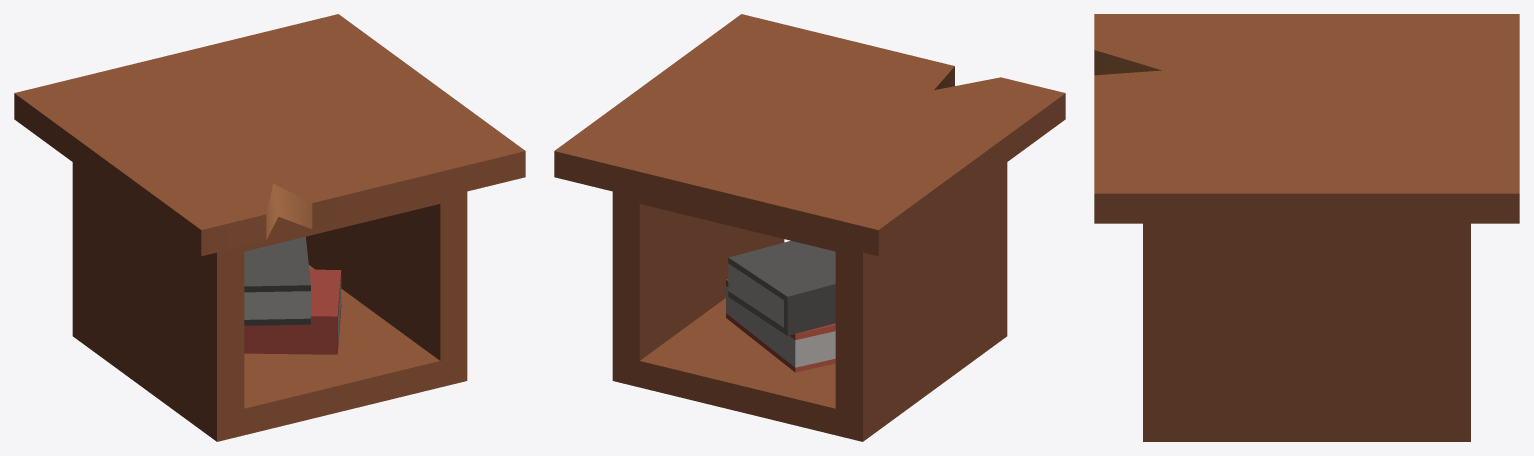
The model's file is AI_Prop_EndTable.fbx.
3 renders of one model, left to right at view 1: azimuth 30°, elevation 25°; view 2: azimuth 150°, elevation 25°; view 3: azimuth 270°, elevation 25°, orthographic. The views are drawn at different scales.
Parts seen in each view (by area): view 1: AI_Prop_EndTable; view 2: AI_Prop_EndTable; view 3: AI_Prop_EndTable.
Part boxes in pixels (bbox=[...]): AI_Prop_EndTable: bbox=[14, 14, 525, 441]; AI_Prop_EndTable: bbox=[554, 14, 1065, 441]; AI_Prop_EndTable: bbox=[1094, 14, 1519, 441].
Size of the model in its own units: 1.3 by 0.9032 by 1.3.
